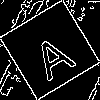A: (24, 24, 78, 82)
